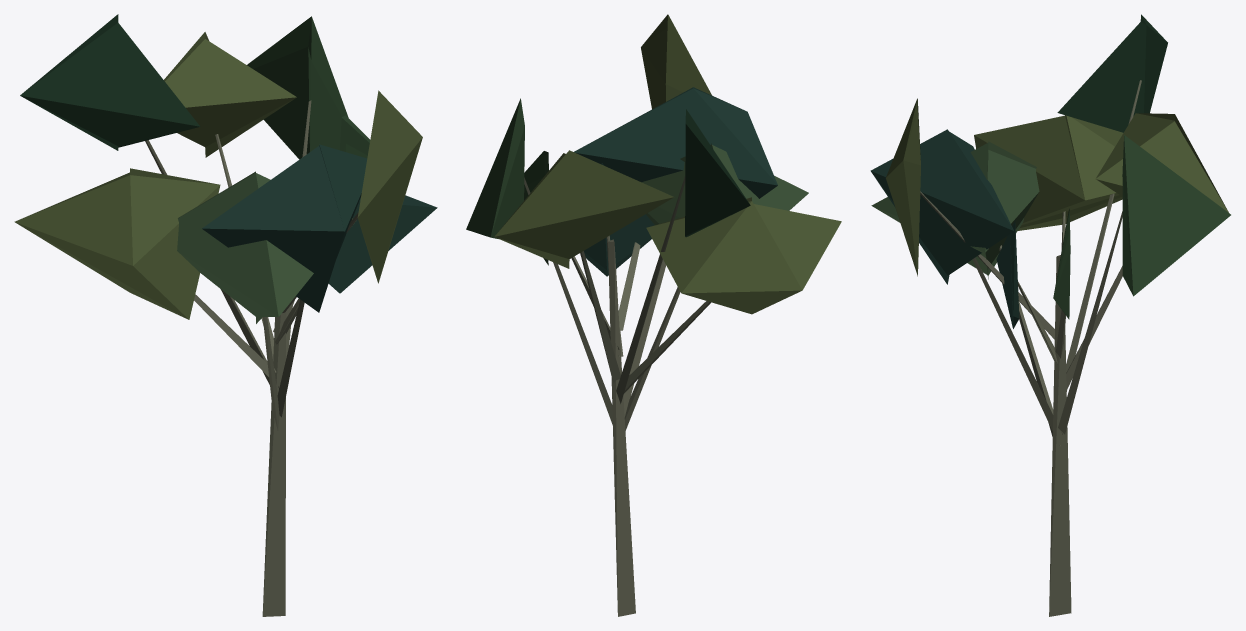
File: forest_18_27.dae
3 views of the same model, side by side, from view 1: azimuth 30°, elevation 25°; view 2: azimuth 150°, elevation 25°; view 3: azimuth 270°, elevation 25° (orthographic). The views are drawn at different scales.
Visible parts, largest first — view 1: Node; view 2: Node; view 3: Node.
Boxes of the visible parts, <box> form: Node: <box>14,14,437,616</box>; Node: <box>466,14,841,616</box>; Node: <box>870,14,1230,616</box>.
Size of the model in its own units: 1.46 by 1.35 by 2.27.
